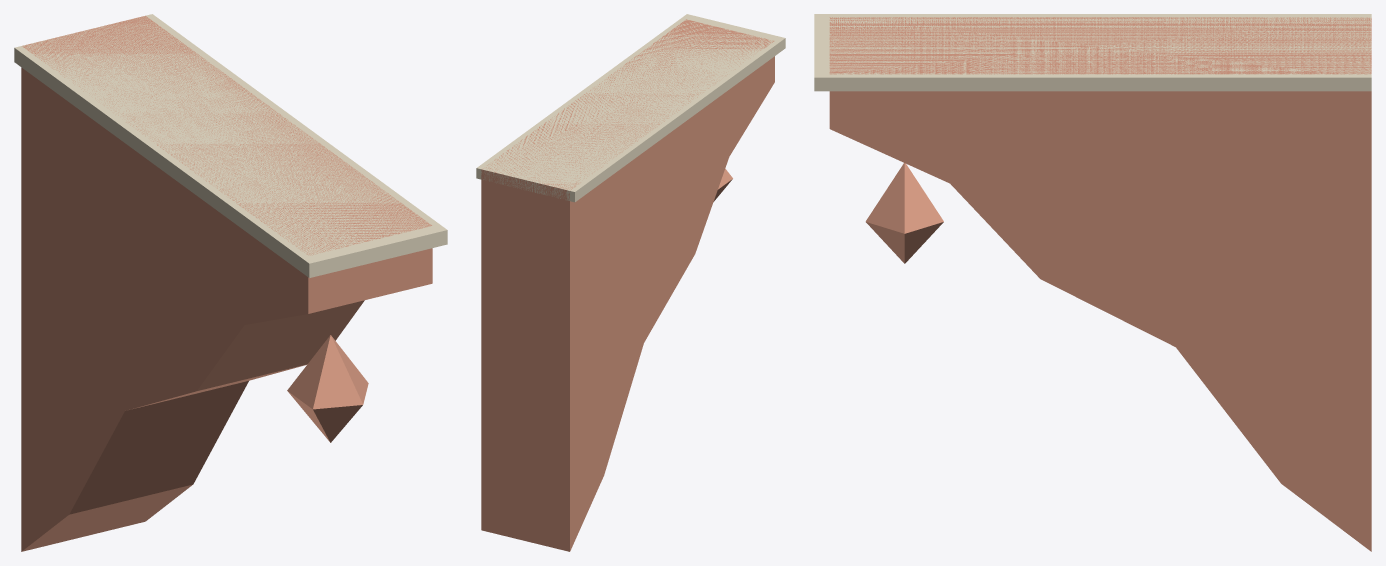
The model's file is kit_bracket.glb.
3 renders of one model, left to right at view 1: azimuth 30°, elevation 25°; view 2: azimuth 150°, elevation 25°; view 3: azimuth 270°, elevation 25°, orthographic. The views are drawn at different scales.
Visible parts, largest first — view 1: kit_bracket; view 2: kit_bracket; view 3: kit_bracket.
Boxes of the visible parts, x1,y1,x2,y2 form: kit_bracket: (14, 14, 447, 551); kit_bracket: (476, 14, 785, 551); kit_bracket: (814, 14, 1371, 551).
Size of the model in its own units: 0.2 by 0.7 by 0.74.
